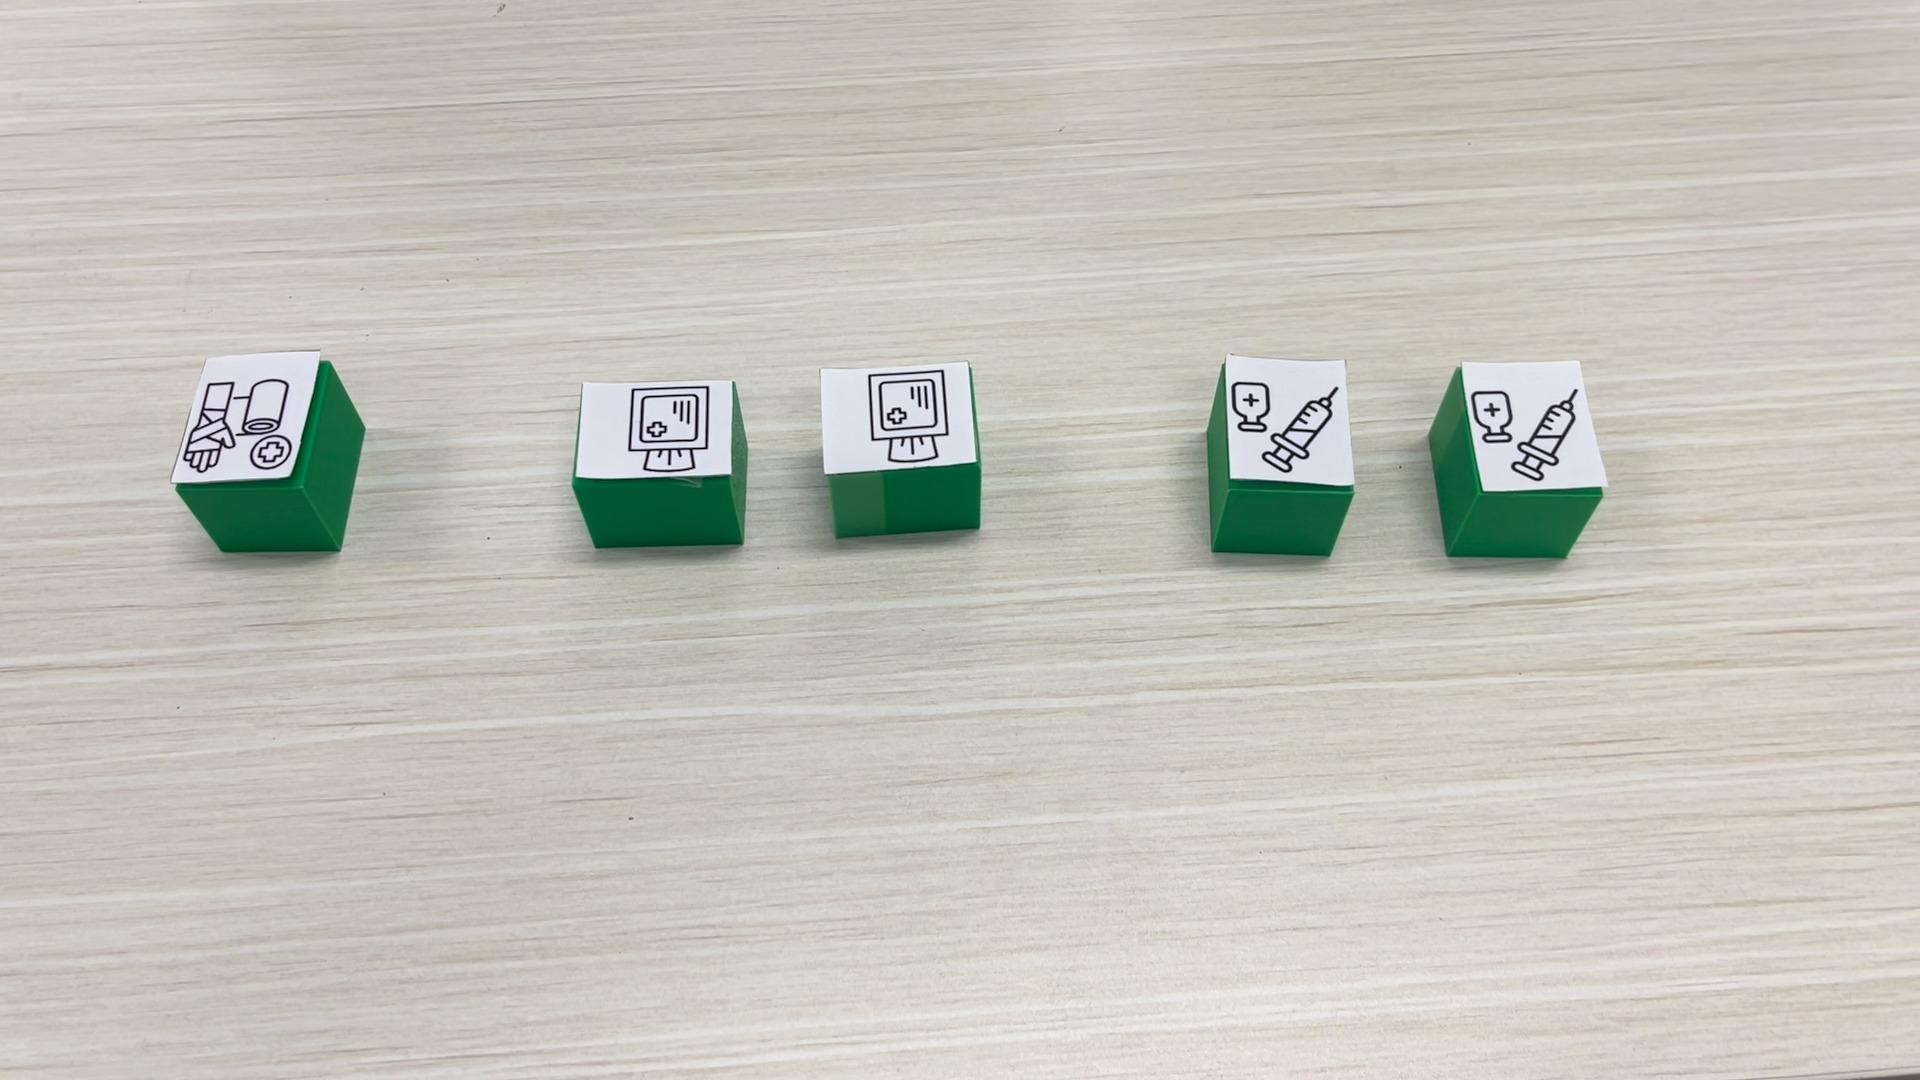Bandages: (171, 349, 363, 553)
Gauze: (570, 377, 746, 547), (818, 359, 982, 538)
antiseptic cream: (1425, 356, 1607, 556), (1204, 352, 1352, 555)
